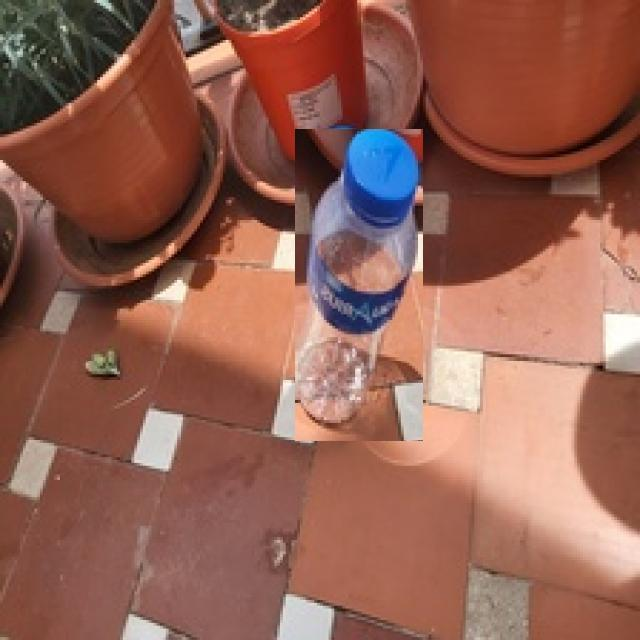good: (296, 129, 424, 441)
